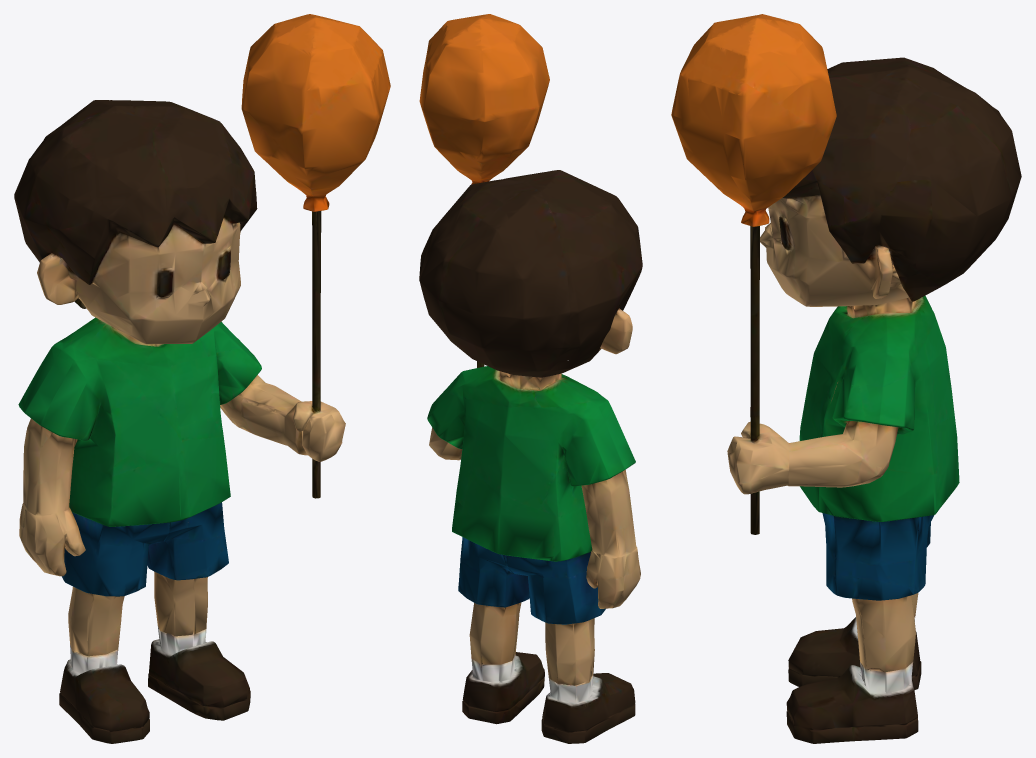
Rendered from dzieciak-balon.glb.
The picture shows the model from 3 angles, left to right: view 1: azimuth 30°, elevation 25°; view 2: azimuth 150°, elevation 25°; view 3: azimuth 270°, elevation 25°; orthographic projection. The views are drawn at different scales.
Visible parts, largest first — view 1: tripo_node_6e73b847-eaee-4e1f-be8b-fb319b41961e; view 2: tripo_node_6e73b847-eaee-4e1f-be8b-fb319b41961e; view 3: tripo_node_6e73b847-eaee-4e1f-be8b-fb319b41961e.
Part boxes in pixels (x1=…): tripo_node_6e73b847-eaee-4e1f-be8b-fb319b41961e: x1=14, y1=14, x2=390, y2=743; tripo_node_6e73b847-eaee-4e1f-be8b-fb319b41961e: x1=419, y1=14, x2=642, y2=743; tripo_node_6e73b847-eaee-4e1f-be8b-fb319b41961e: x1=671, y1=14, x2=1021, y2=743.
Bounding box in the file's own units: 0.4361 × 0.9786 × 0.4161.
Materials: 1 (1 with a texture image).
